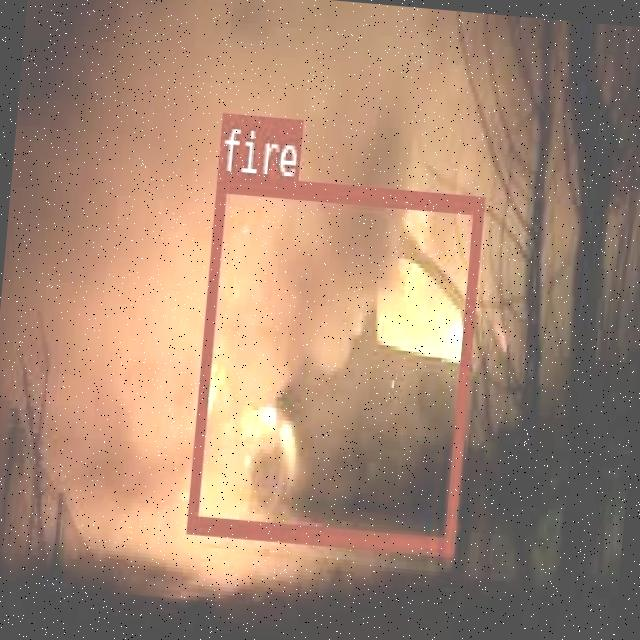fire: (185, 172, 483, 553)
